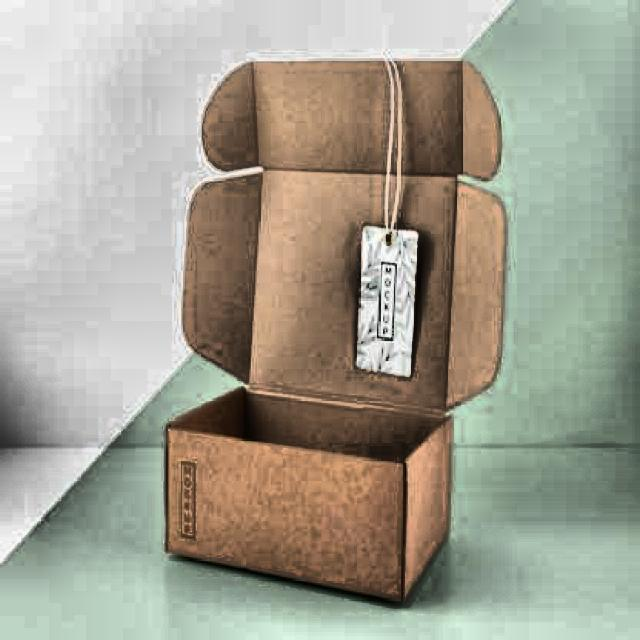Cardbox: (139, 27, 507, 633)
